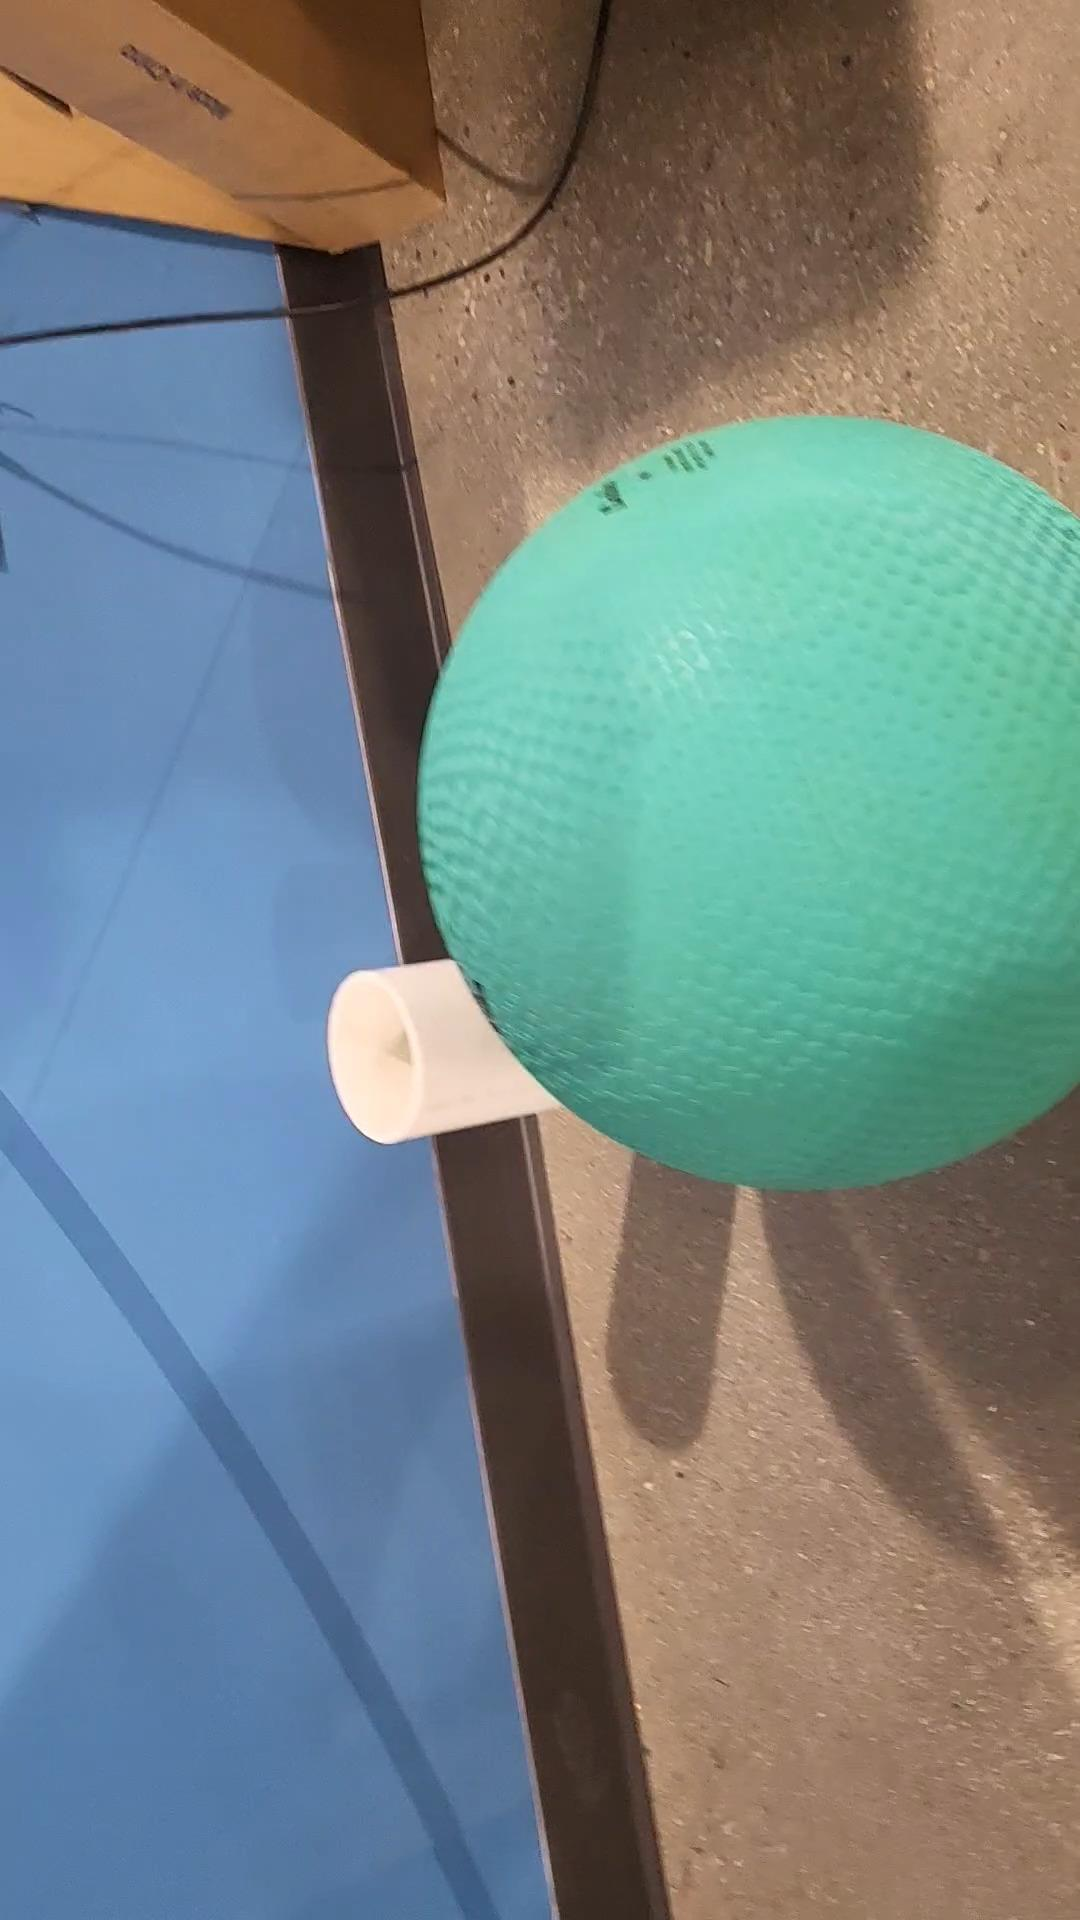algae: (430, 415, 1079, 1183), (330, 948, 563, 1142)
